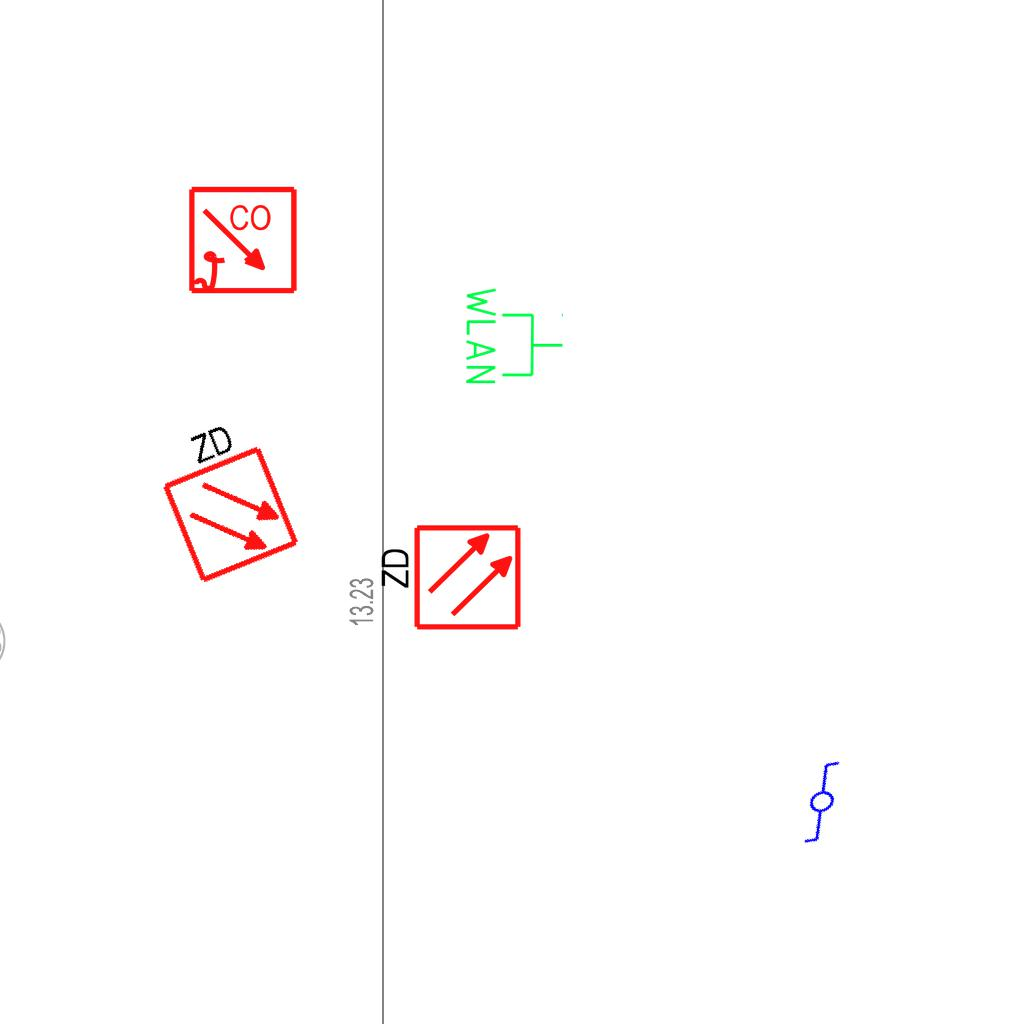ROA_Rauchmelder_optisch_mit_Signalgeber_(Sockelsirene): (187, 185, 300, 298)
WLAN: (462, 283, 566, 388)
Wechselschalter: (775, 751, 877, 851)
ZD_Melder_in_Zwischendecke_mit_Revisionsoeffnung_mind_40_x_40_cm: (141, 407, 303, 588), (374, 522, 523, 636)
